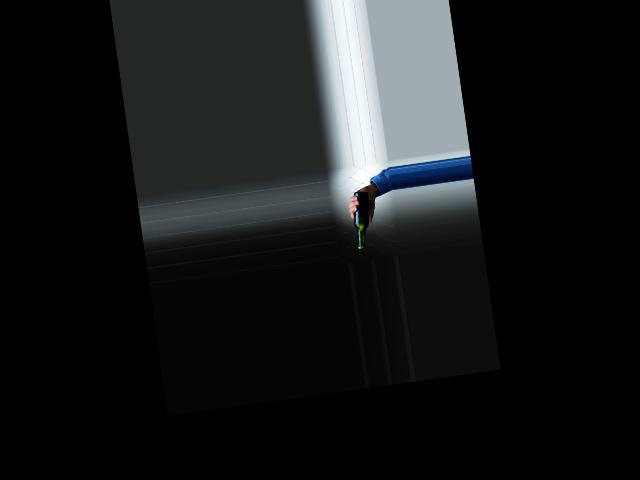beer: (349, 190, 376, 248)
